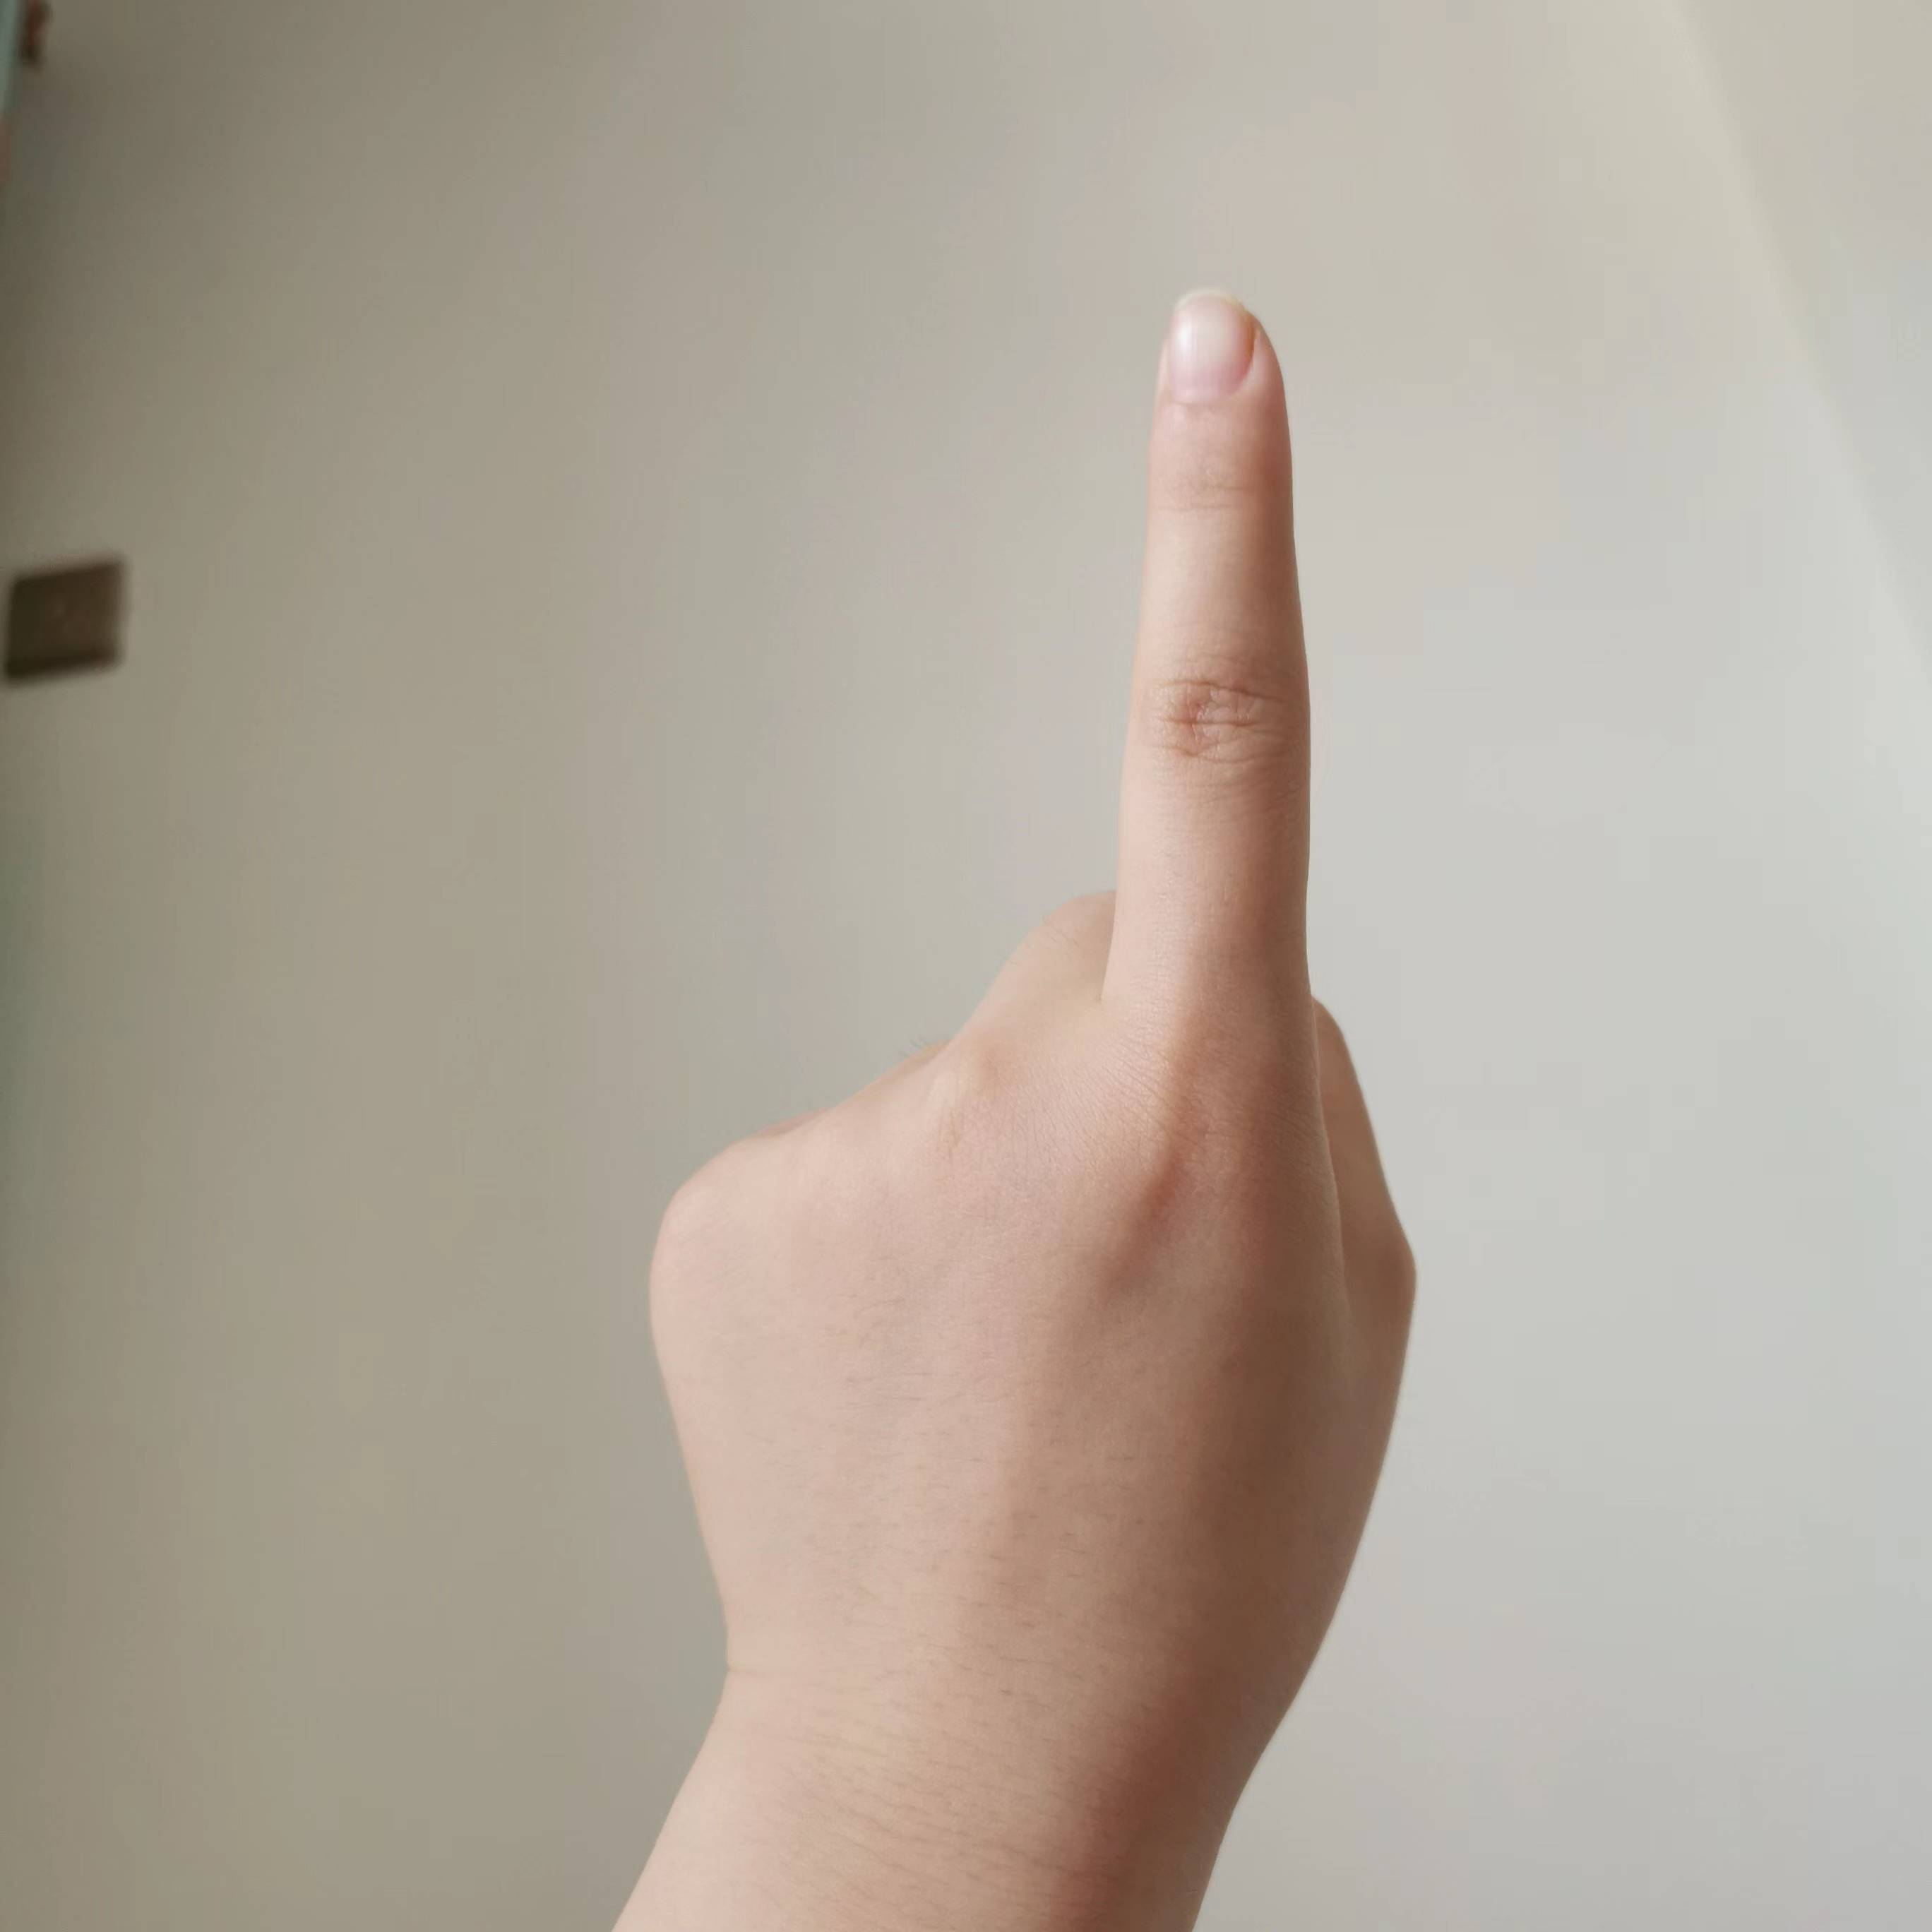up: (626, 272, 1428, 1736)
